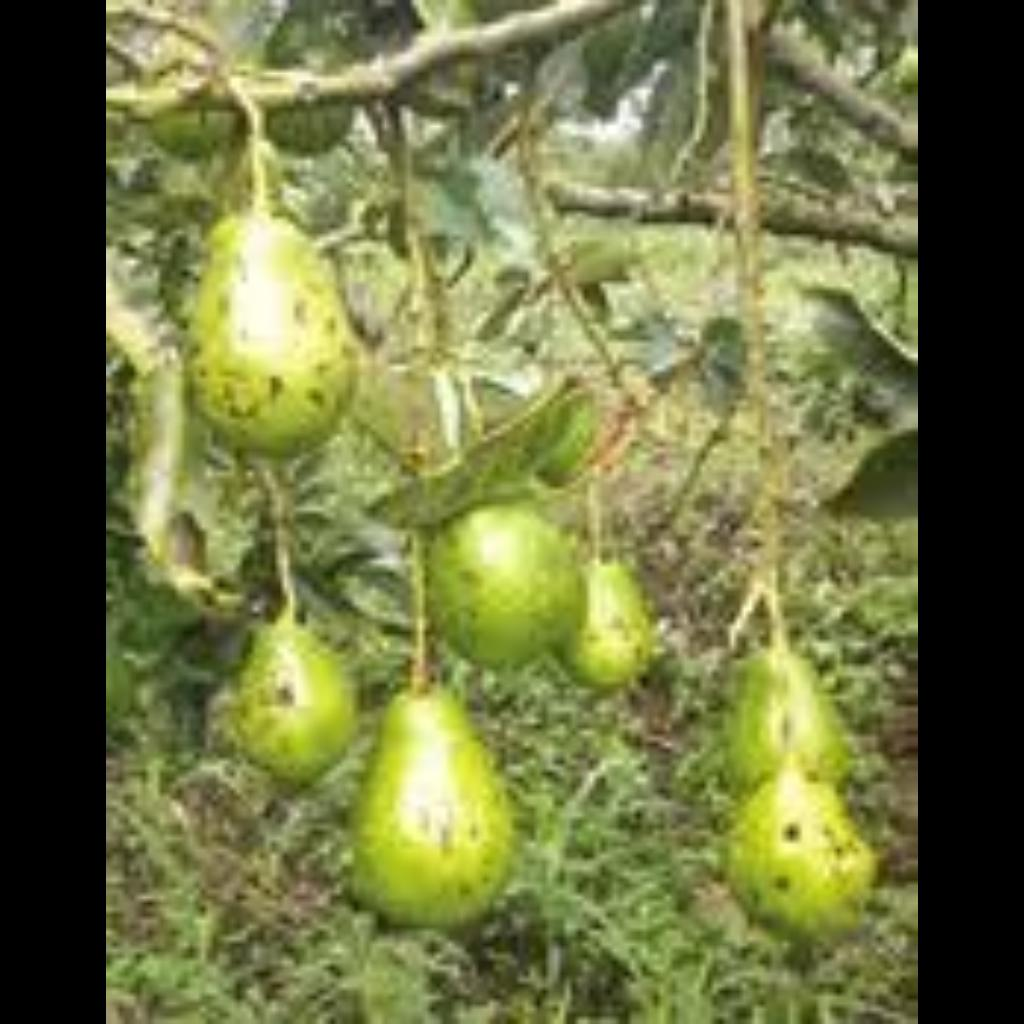cercospora_spot: (177, 188, 359, 448), (738, 682, 886, 936), (374, 674, 504, 910), (220, 608, 362, 774)
